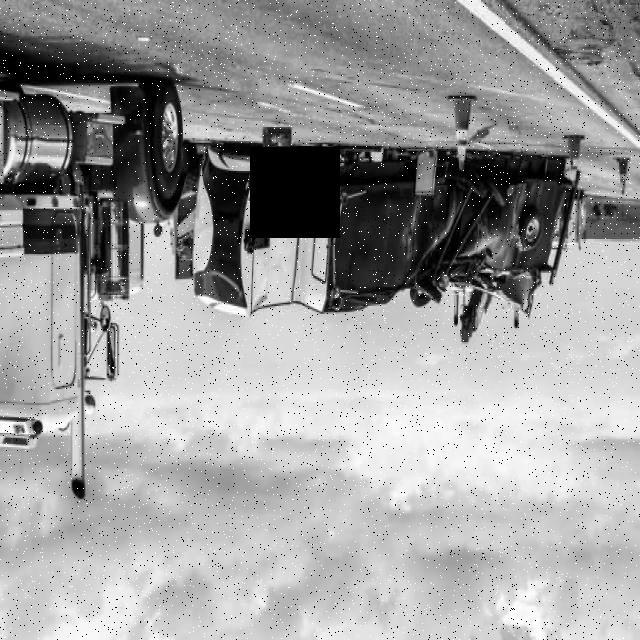severe: (169, 141, 581, 347)
